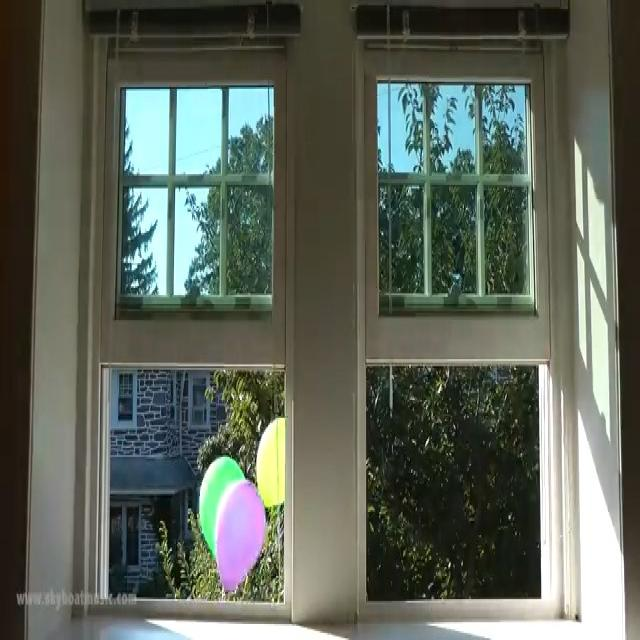balloon: (218, 484, 265, 590), (197, 461, 243, 556), (258, 418, 286, 511)
